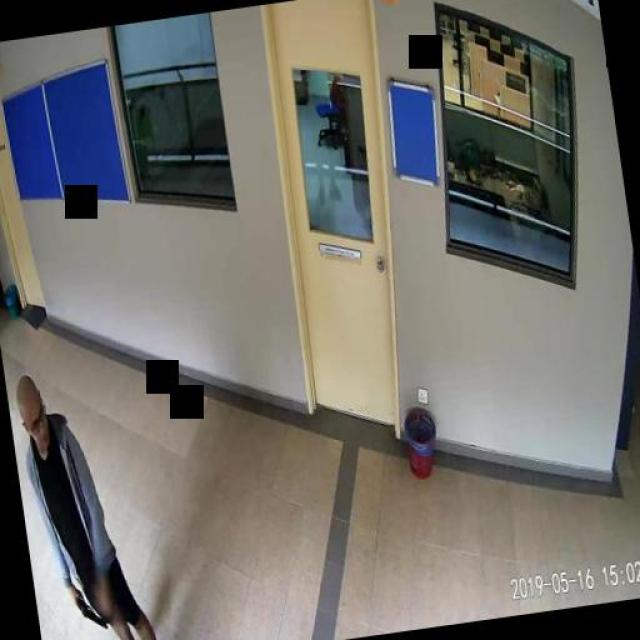gun: (72, 584, 106, 631)
